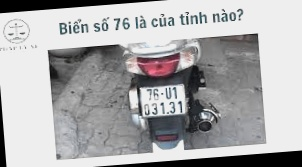Bien-so: (138, 82, 189, 118)
